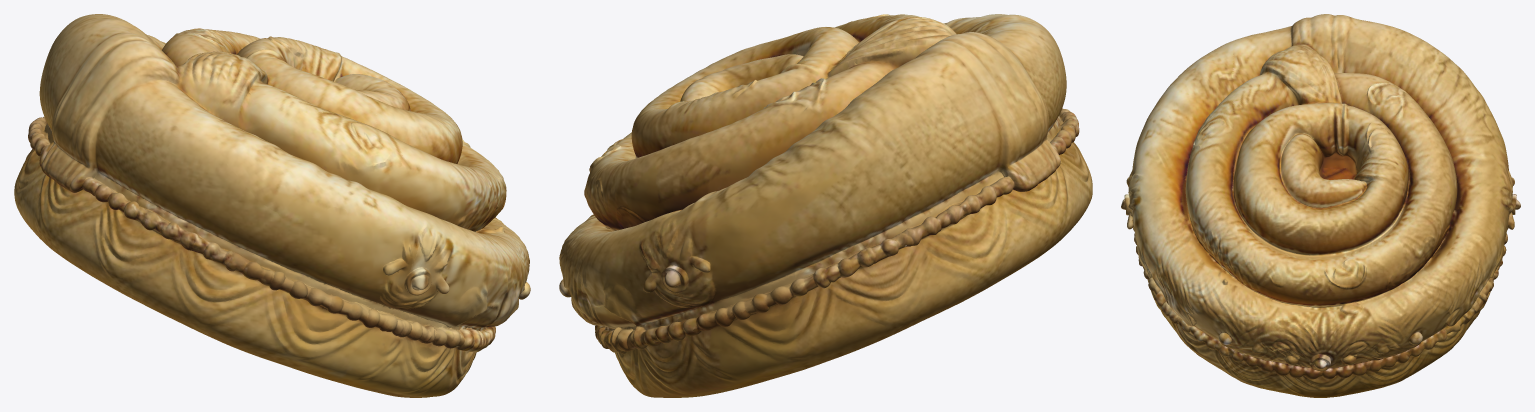
Rendered from phu_kien_6.glb.
3 views of the same model, side by side, from view 1: azimuth 30°, elevation 25°; view 2: azimuth 150°, elevation 25°; view 3: azimuth 270°, elevation 25° (orthographic). The views are drawn at different scales.
Parts seen in each view (by area): view 1: PhuKien_6; view 2: PhuKien_6; view 3: PhuKien_6.
Boxes of the visible parts, x1,y1,x2,y2 form: PhuKien_6: (14, 14, 530, 397); PhuKien_6: (559, 14, 1092, 397); PhuKien_6: (1121, 14, 1520, 397).
Size of the model in its own units: 0.1938 by 0.1563 by 0.203.
1 material, 1 textured.
